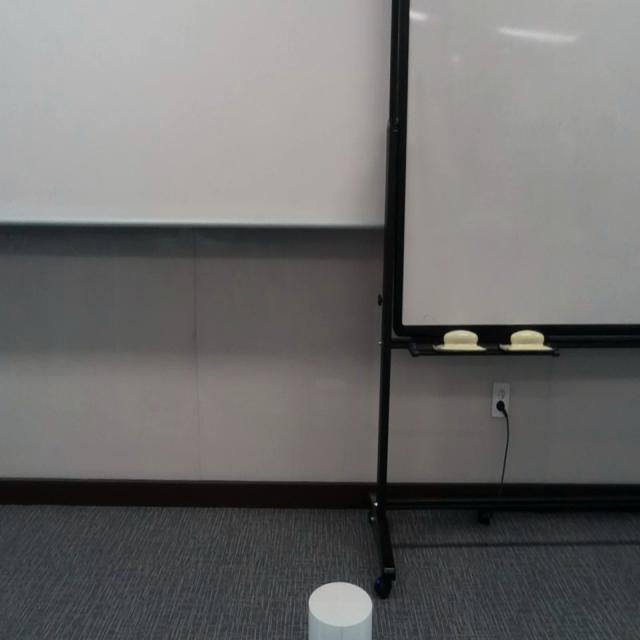cylinder: (307, 582, 372, 640)
